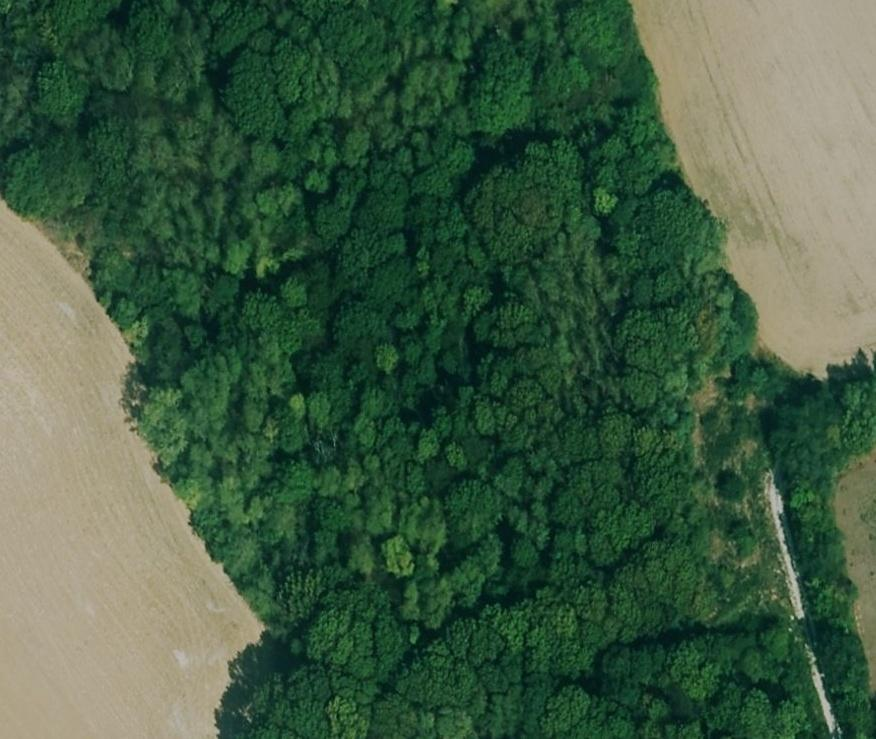field: (0, 200, 260, 737), (633, 0, 876, 374), (837, 453, 876, 687)
forest: (0, 2, 876, 737)
